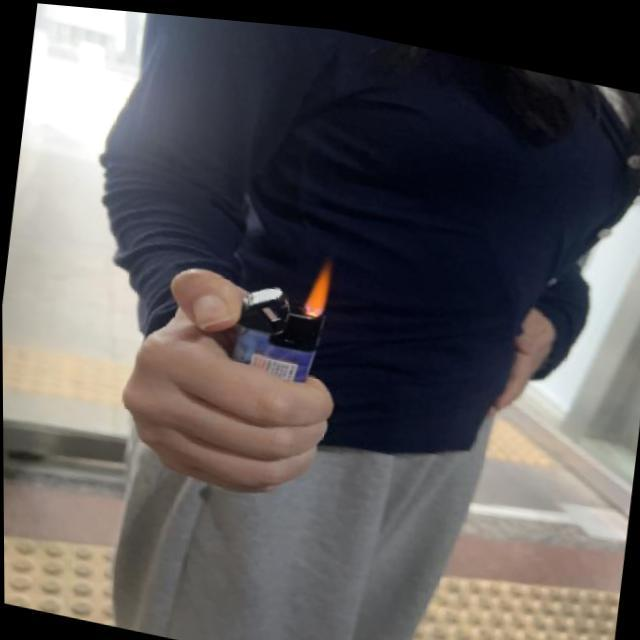fire: (298, 250, 334, 314)
